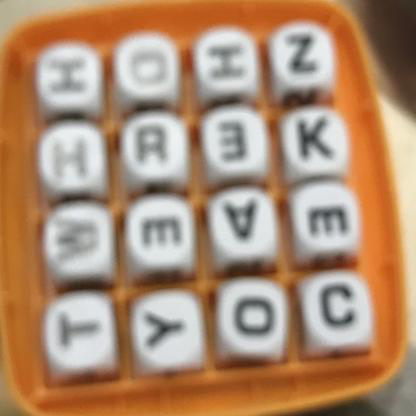a: (215, 193, 273, 254)
c: (307, 274, 376, 338)
e: (128, 189, 192, 270), (298, 191, 362, 250), (205, 110, 262, 172)
h: (42, 124, 105, 193), (38, 37, 99, 108), (194, 31, 254, 90)
k: (284, 107, 349, 175)
o: (228, 286, 285, 354), (116, 41, 177, 94)
r: (125, 113, 183, 182)
t: (42, 294, 113, 366)
w: (42, 207, 114, 278)
y: (138, 300, 202, 363)
z: (279, 18, 330, 88)
